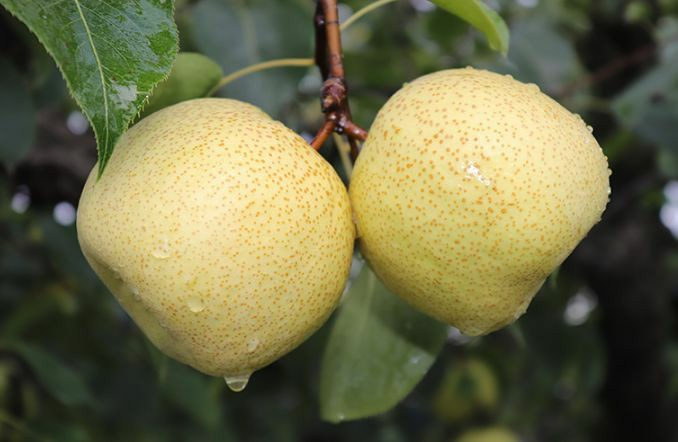pear: (76, 97, 354, 378), (351, 69, 609, 337)
